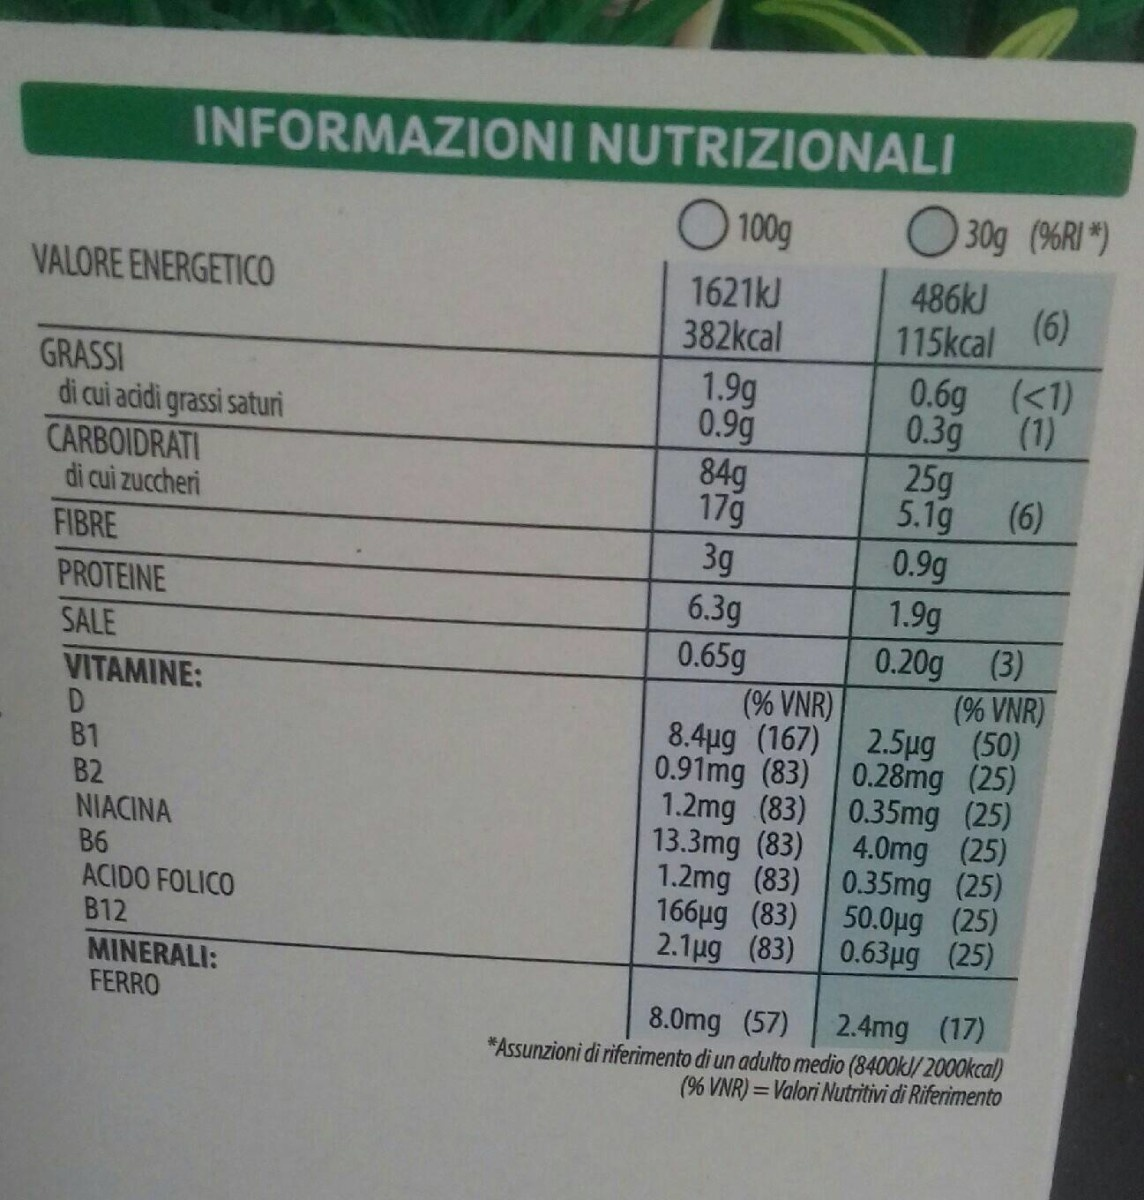column: (837, 202, 1109, 1051), (32, 237, 292, 1008), (647, 193, 827, 1051)
table: (18, 196, 1122, 1057)
